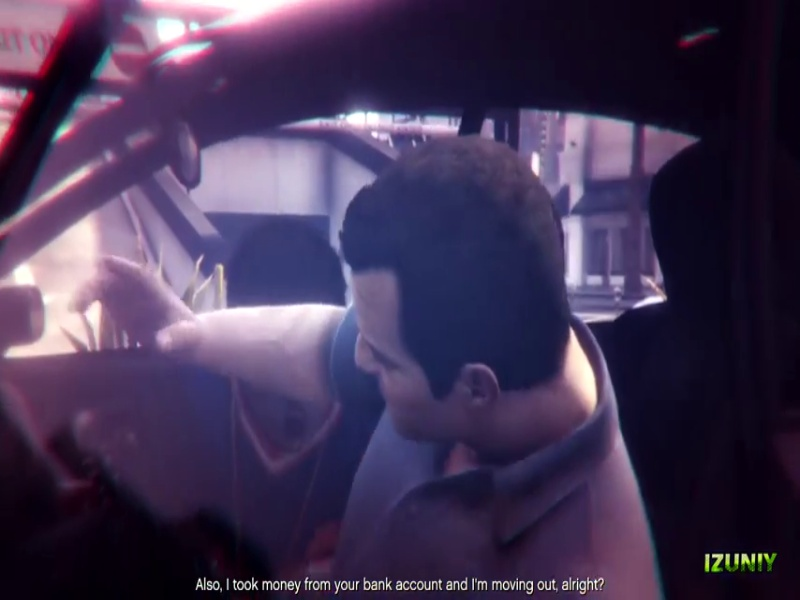human: (63, 118, 655, 587)
